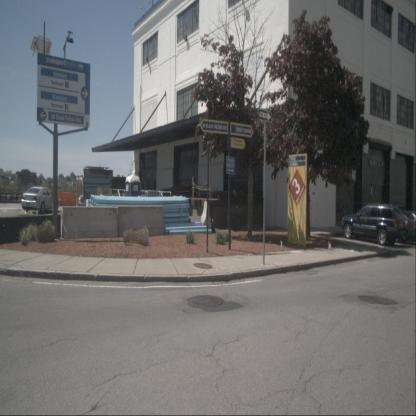barrier: (62, 205, 118, 239), (0, 216, 61, 241), (119, 204, 164, 236), (201, 199, 212, 226)
